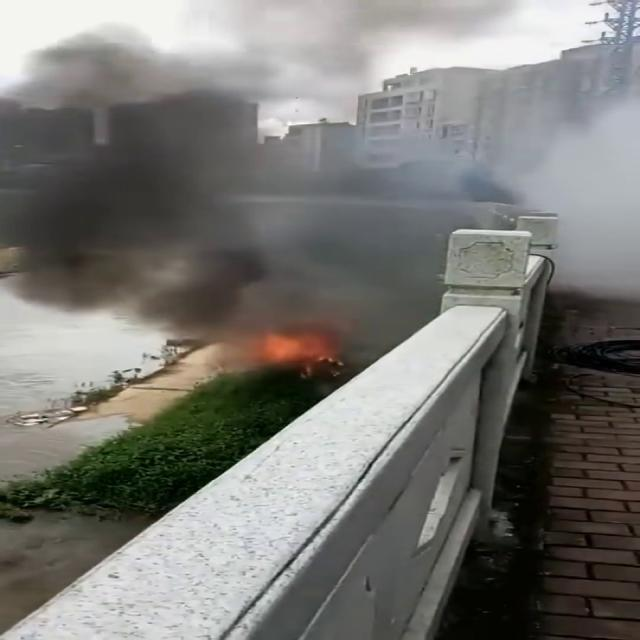Fire: (242, 332, 332, 369)
Smoke: (1, 0, 640, 335)
